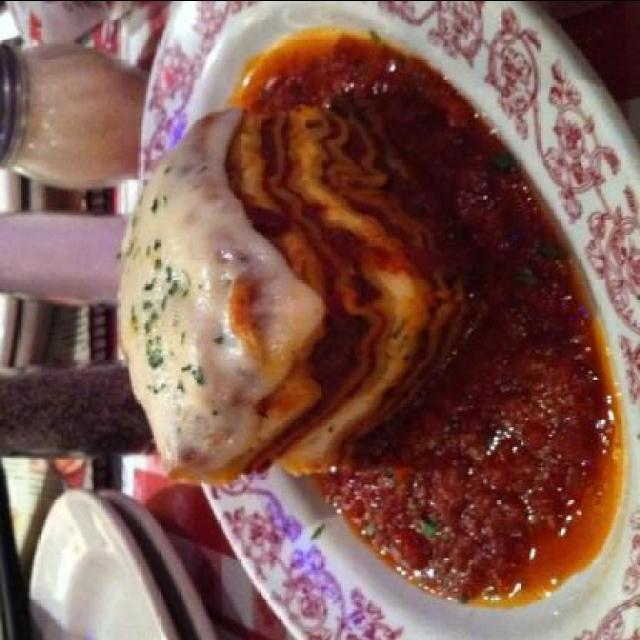Lasagna: (103, 72, 515, 502)
